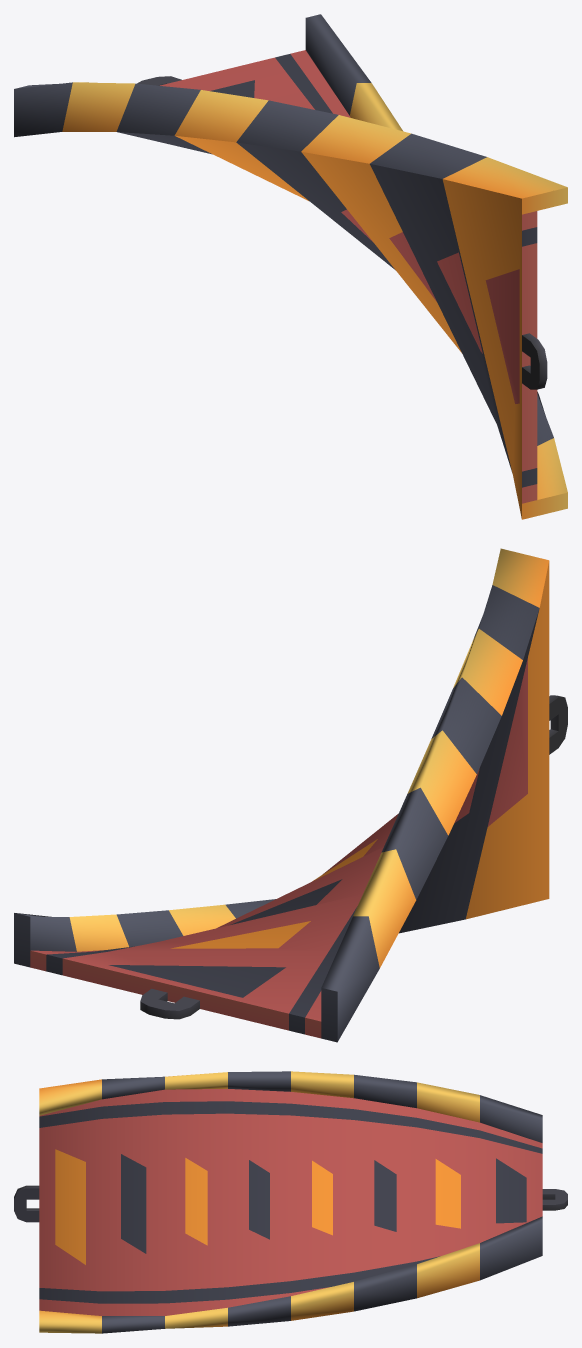
The model's file is track-road-wide-straight-skew-left-side.fbx.
The picture shows the model from 3 angles, top to bottom: view 1: azimuth 30°, elevation 25°; view 2: azimuth 150°, elevation 25°; view 3: azimuth 270°, elevation 25°; orthographic projection. The views are drawn at different scales.
Visible parts, largest first — view 1: track-road-wide-straight-skew-left-side; view 2: track-road-wide-straight-skew-left-side; view 3: track-road-wide-straight-skew-left-side.
Boxes of the visible parts, x1,y1,x2,y2 form: track-road-wide-straight-skew-left-side: (14,14,567,519); track-road-wide-straight-skew-left-side: (14,548,567,1042); track-road-wide-straight-skew-left-side: (14,1071,567,1333).
Size of the model in its own units: 204 by 204 by 440.
